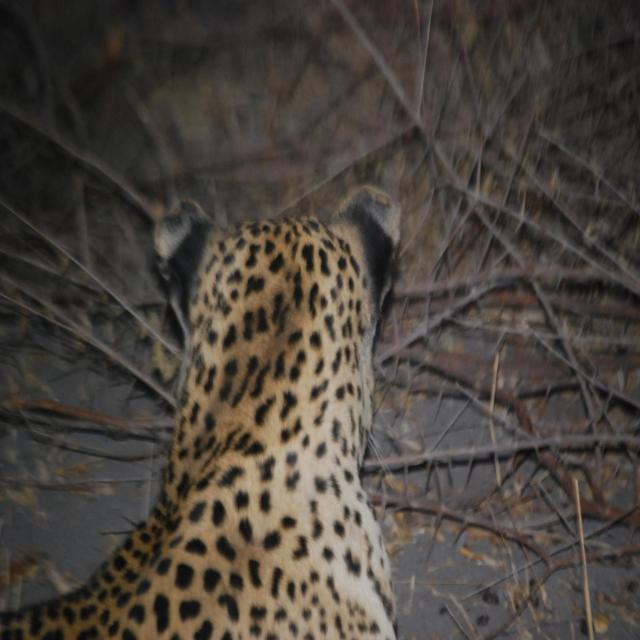Leopard: (0, 182, 408, 640)
